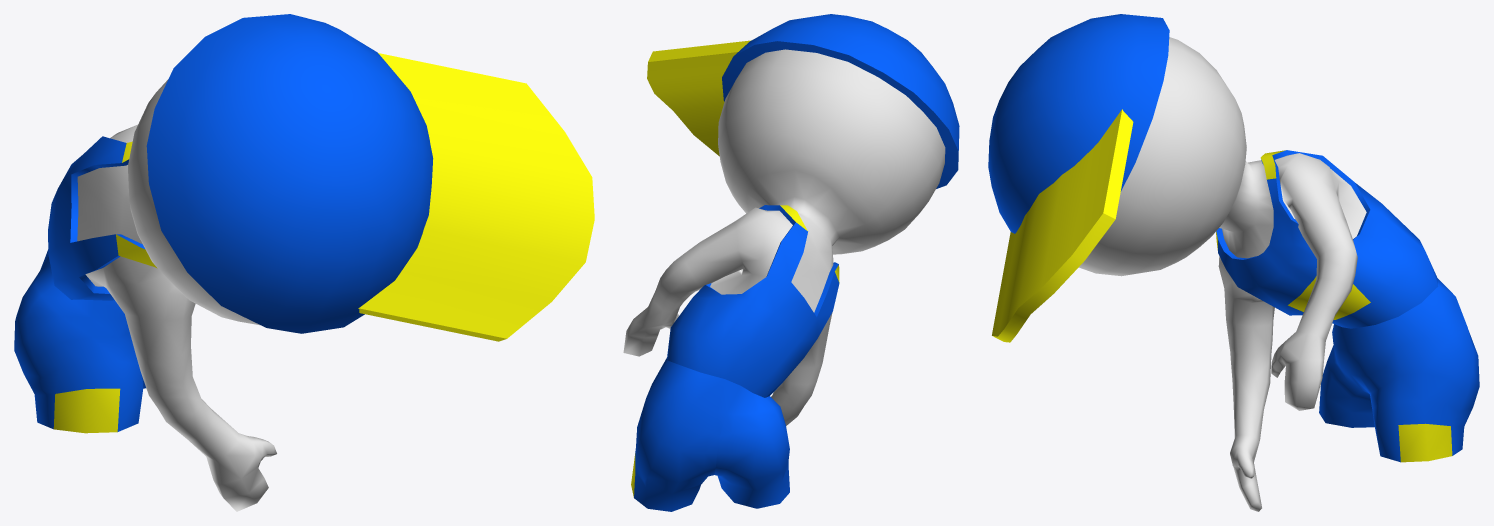
The model's file is mechanic.fbx.
3 renders of one model, left to right at view 1: azimuth 30°, elevation 25°; view 2: azimuth 150°, elevation 25°; view 3: azimuth 270°, elevation 25°, orthographic. The views are drawn at different scales.
Visible parts, largest first — view 1: mechanic; view 2: mechanic; view 3: mechanic.
Part boxes in pixels (x1=…): mechanic: x1=14, y1=14, x2=594, y2=511; mechanic: x1=623, y1=14, x2=959, y2=511; mechanic: x1=988, y1=14, x2=1479, y2=511.
Size of the model in its own units: 152 by 196 by 188.
